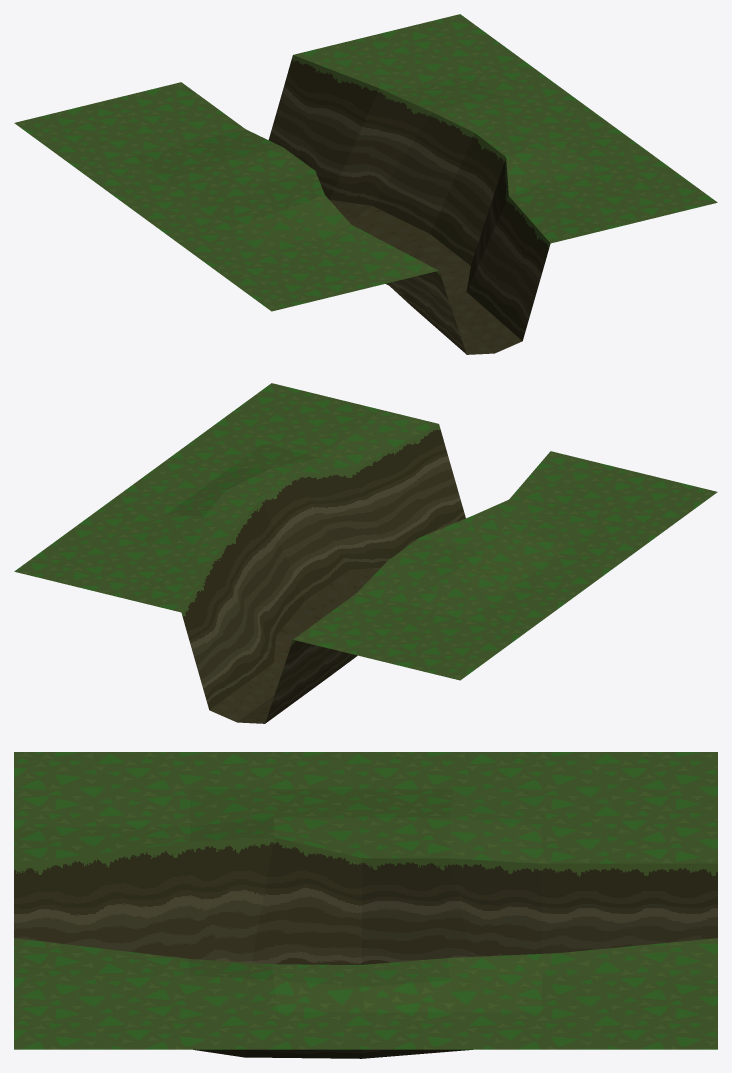
The model's file is chunk_0016.glb.
3 renders of one model, top to bottom at view 1: azimuth 30°, elevation 25°; view 2: azimuth 150°, elevation 25°; view 3: azimuth 270°, elevation 25°, orthographic. The views are drawn at different scales.
Visible parts, largest first — view 1: chunk_0016; view 2: chunk_0016; view 3: chunk_0016.
Boxes of the visible parts, bbox=[...] form: chunk_0016: bbox=[14, 14, 717, 354]; chunk_0016: bbox=[14, 383, 717, 723]; chunk_0016: bbox=[14, 752, 717, 1058].
Size of the model in its own units: 10 by 2.28 by 10.
Materials: 3 (3 with a texture image).
